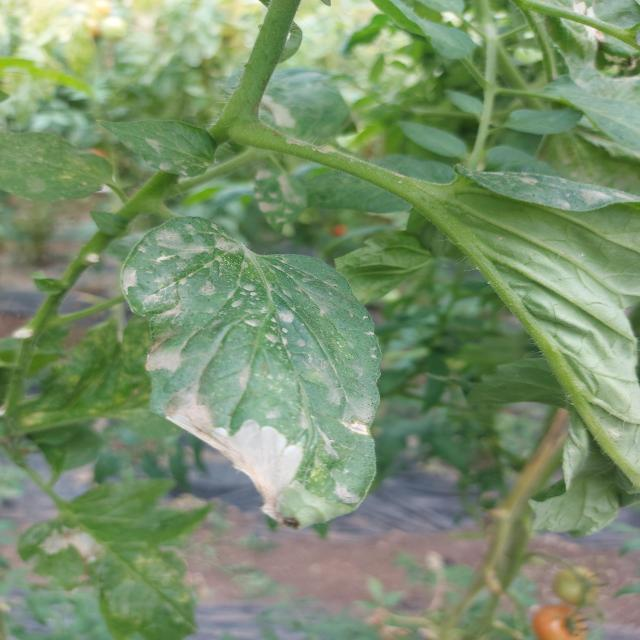Tuta absoluta: (160, 359, 324, 521)
